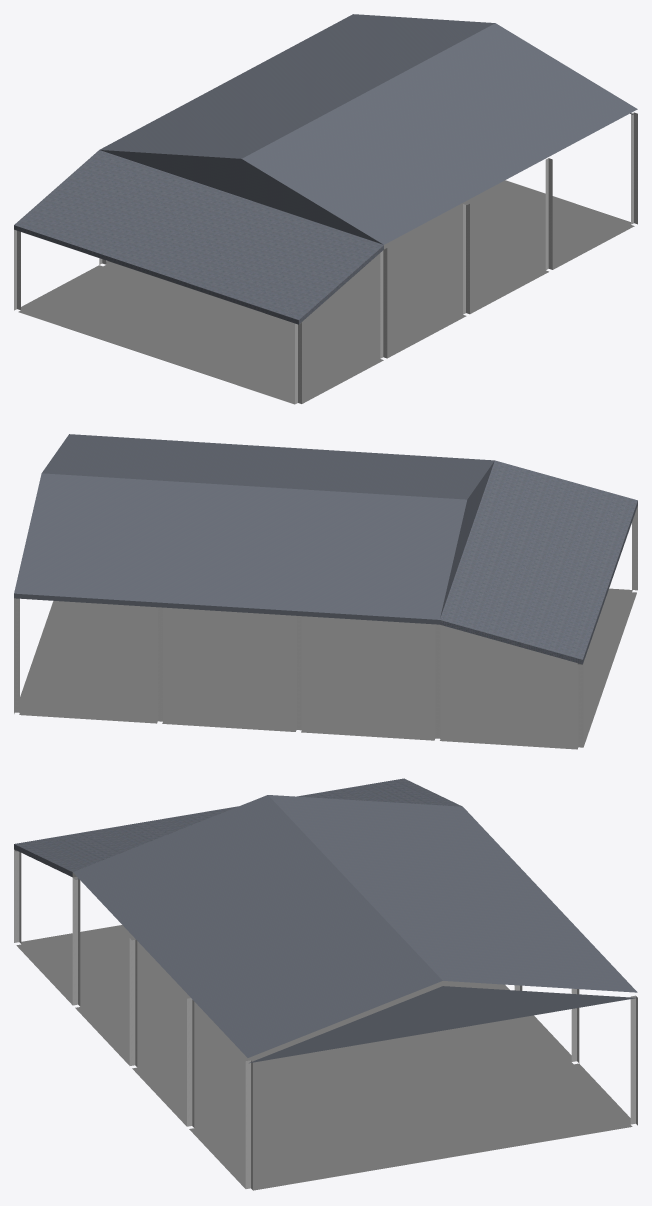
3 views of the same model, one above another, from view 1: azimuth 30°, elevation 25°; view 2: azimuth 150°, elevation 25°; view 3: azimuth 270°, elevation 25° (orthographic). The views are drawn at different scales.
Parts seen in each view (by area): view 1: 馬#1; view 2: 馬#1; view 3: 馬#1.
Part boxes in pixels (x1=…): 馬#1: x1=14, y1=14, x2=637, y2=404; 馬#1: x1=14, y1=434, x2=637, y2=749; 馬#1: x1=14, y1=778, x2=637, y2=1190.
Bounding box in the file's own units: 19.38 × 5.12 × 16.27.
Materials: 3 (2 with a texture image).
